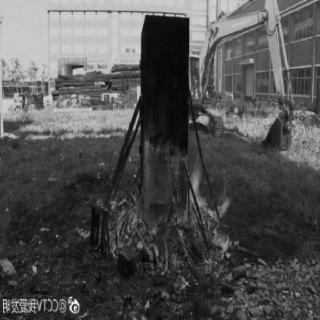Fire: (149, 160, 239, 266), (94, 184, 144, 260)
